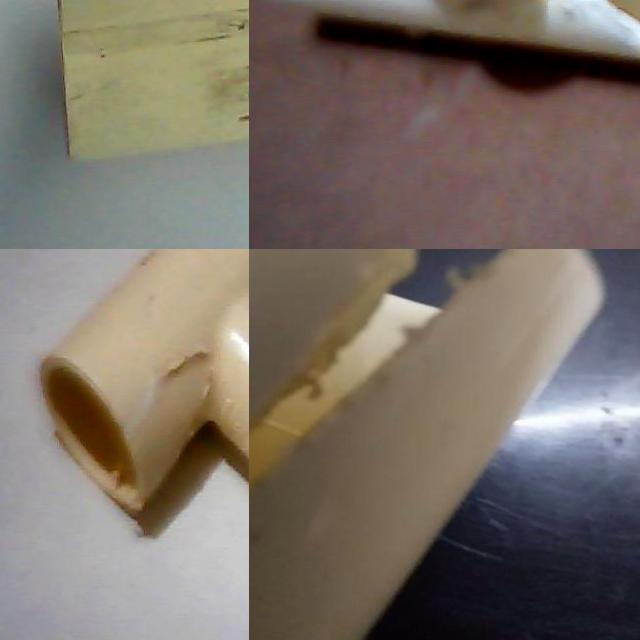Defective: (249, 279, 428, 541), (123, 347, 222, 486), (399, 249, 538, 345), (544, 0, 640, 94)
T Joint: (41, 249, 249, 514)
